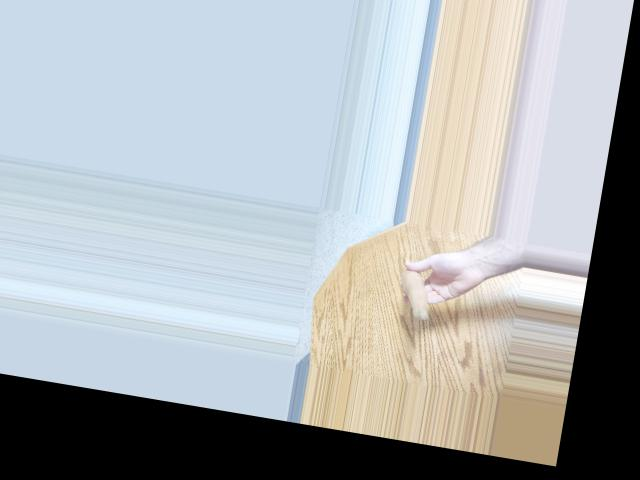sweet_potato: (395, 265, 438, 321)
